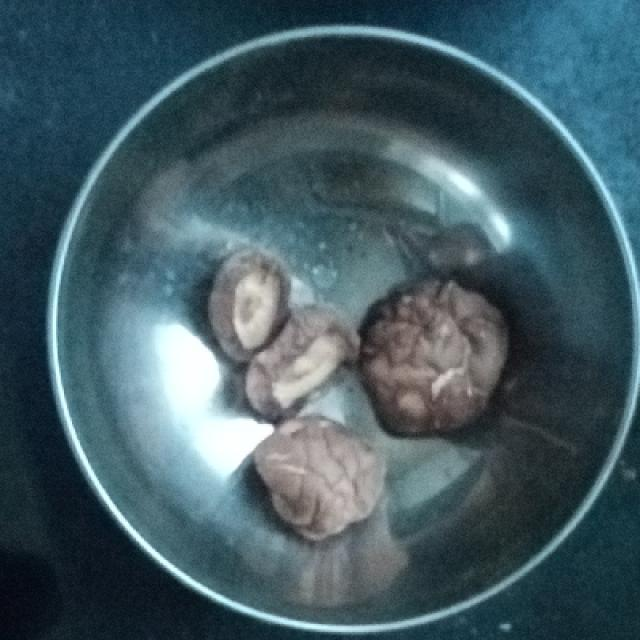Lentinus edodes: (364, 278, 507, 436), (259, 418, 390, 531), (246, 303, 362, 426), (214, 245, 291, 366)
